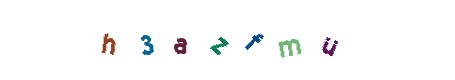3: (158, 0, 238, 80)
A: (175, 0, 255, 80)
F: (187, 0, 267, 80)
H: (70, 0, 150, 80)
M: (211, 0, 291, 80)
U: (228, 0, 308, 80)
Z: (179, 0, 259, 80)
